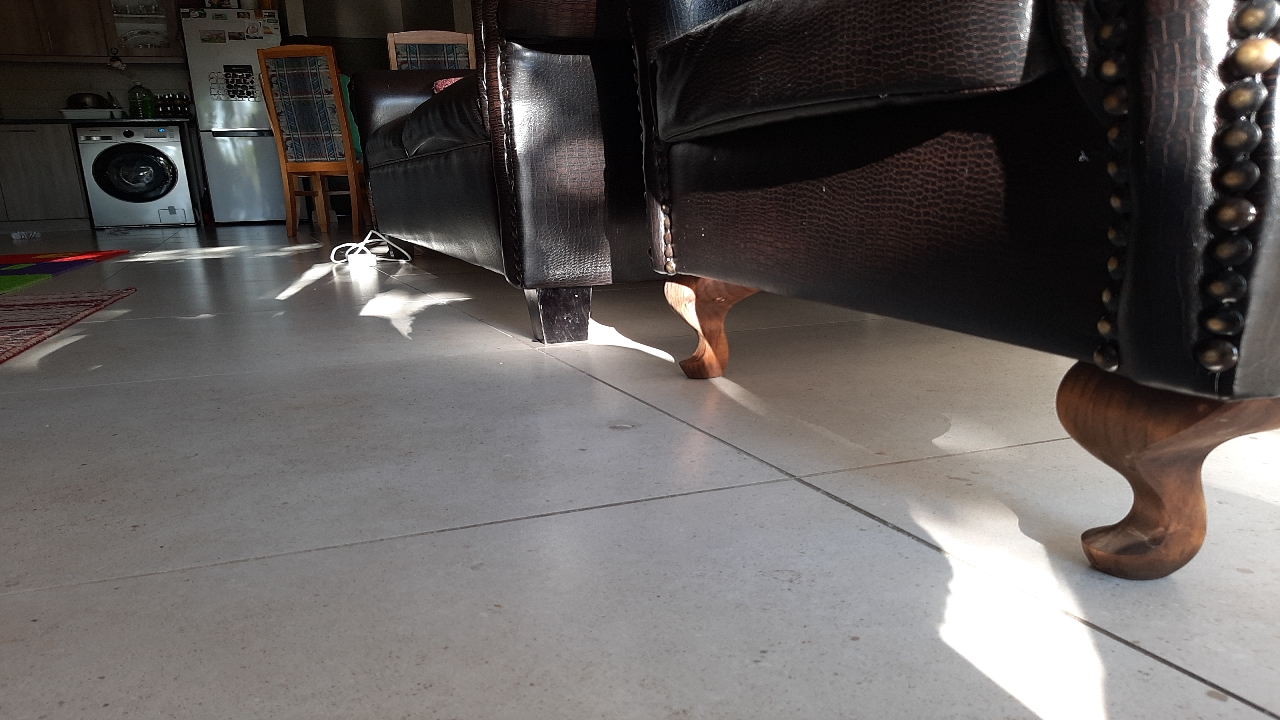cable: (321, 232, 429, 279)
chair: (265, 189, 316, 244)
sofa: (485, 242, 1223, 603)
